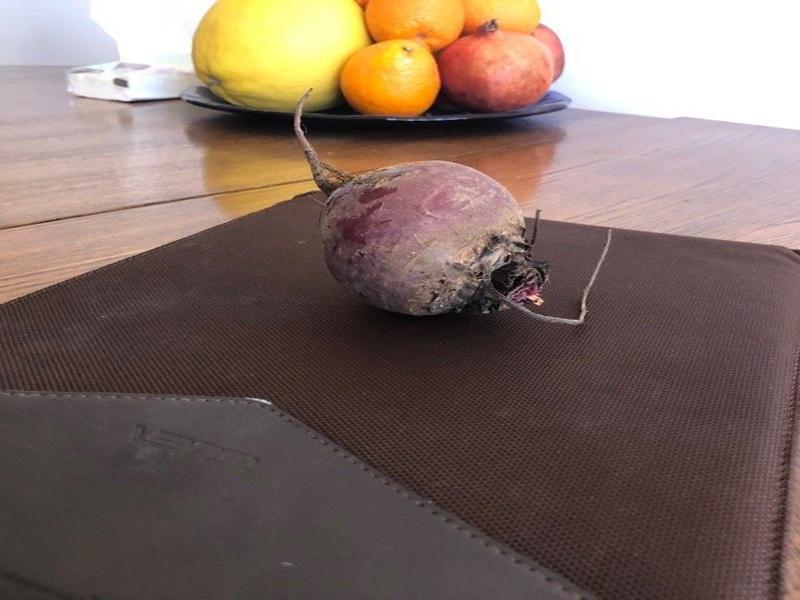Beet: (292, 86, 613, 324)
